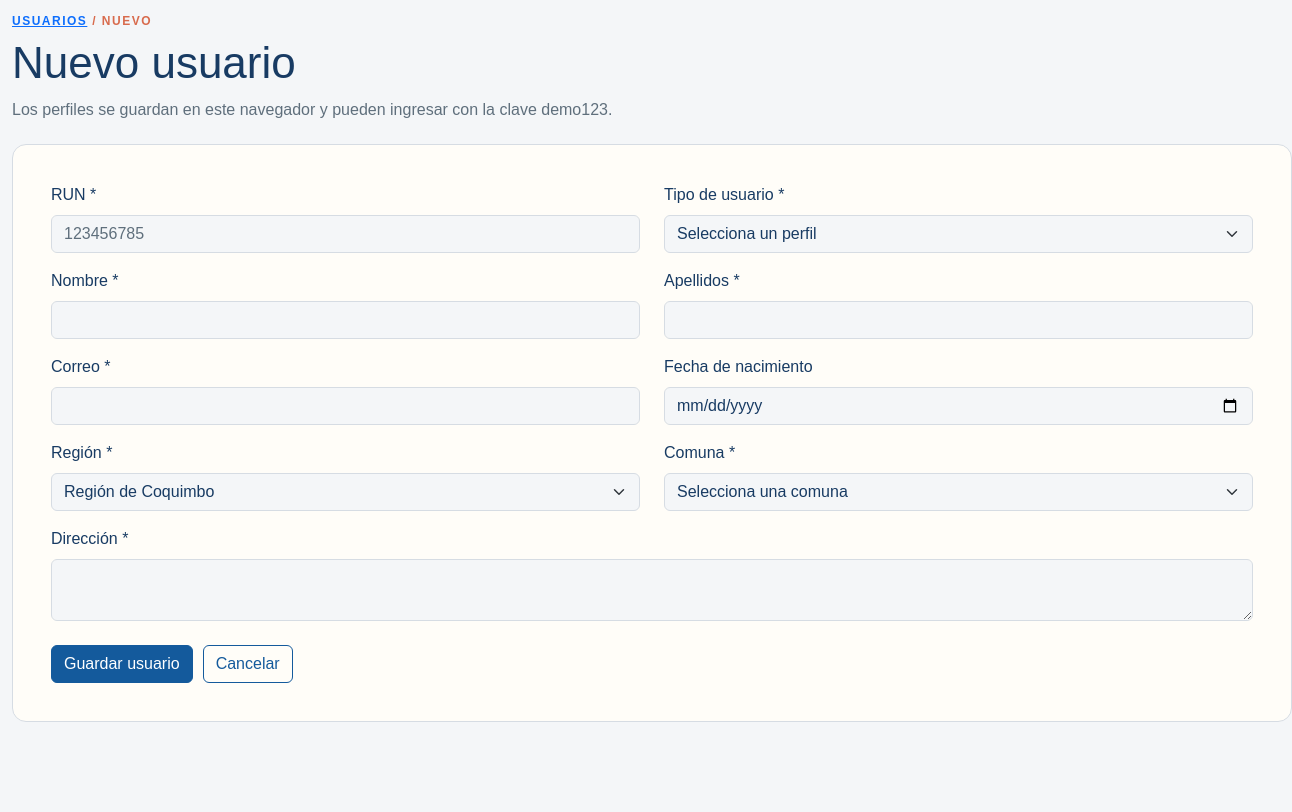
AdminUsuarioFormContainer › avisa si no se pudo guardar
The width and height of the screenshot is (1292, 812).
Type "222222222" into the field labelled "RUN *" at (346, 234), box [51,215,640,253]
Select "Vendedor" in the dropdown labelled "Tipo de usuario *" at (958, 234), box [664,215,1253,253]
Type "Vera" into the field labelled "Nombre *" at (346, 320), box [51,301,640,339]
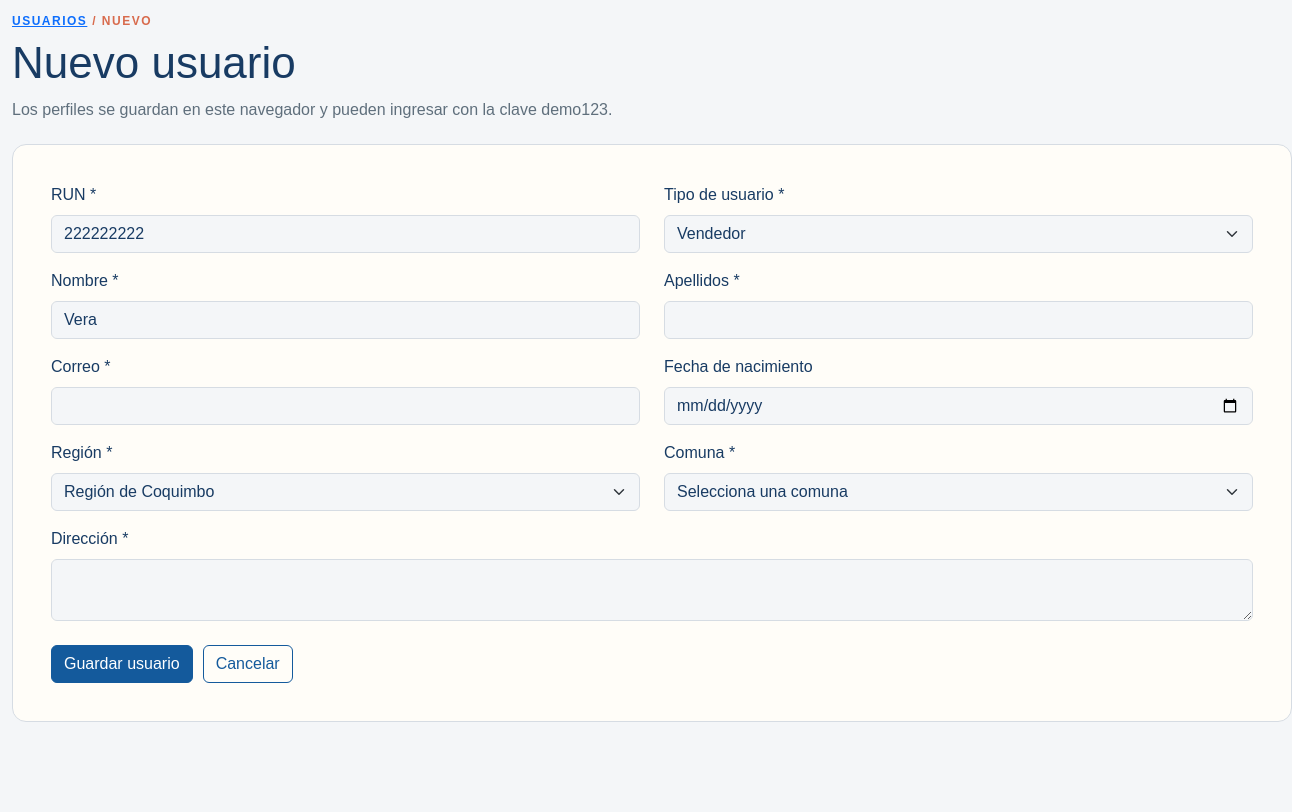
Type "Vende" into the field labelled "Apellidos *" at (958, 320), box [664,301,1253,339]
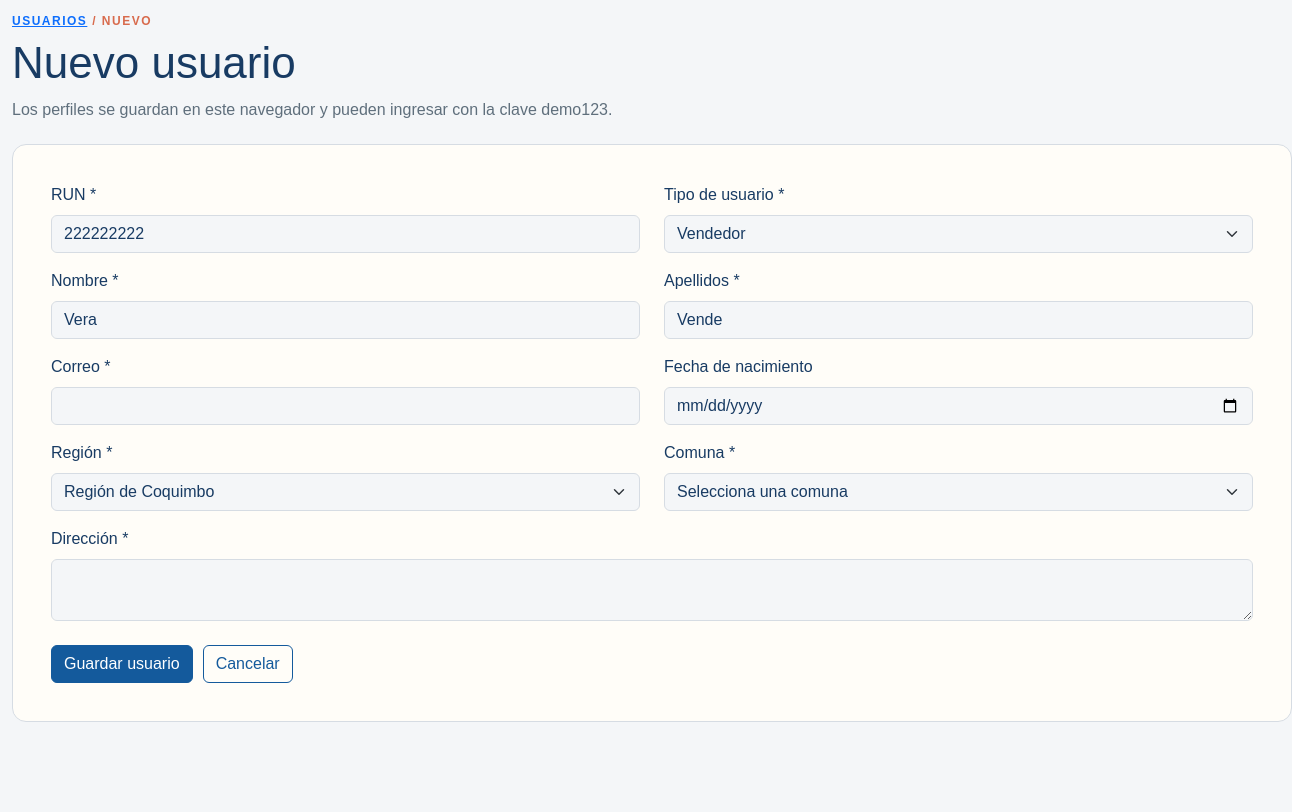
Type "VERA@duoc.cl " into the field labelled "Correo *" at (346, 406), box [51,387,640,425]
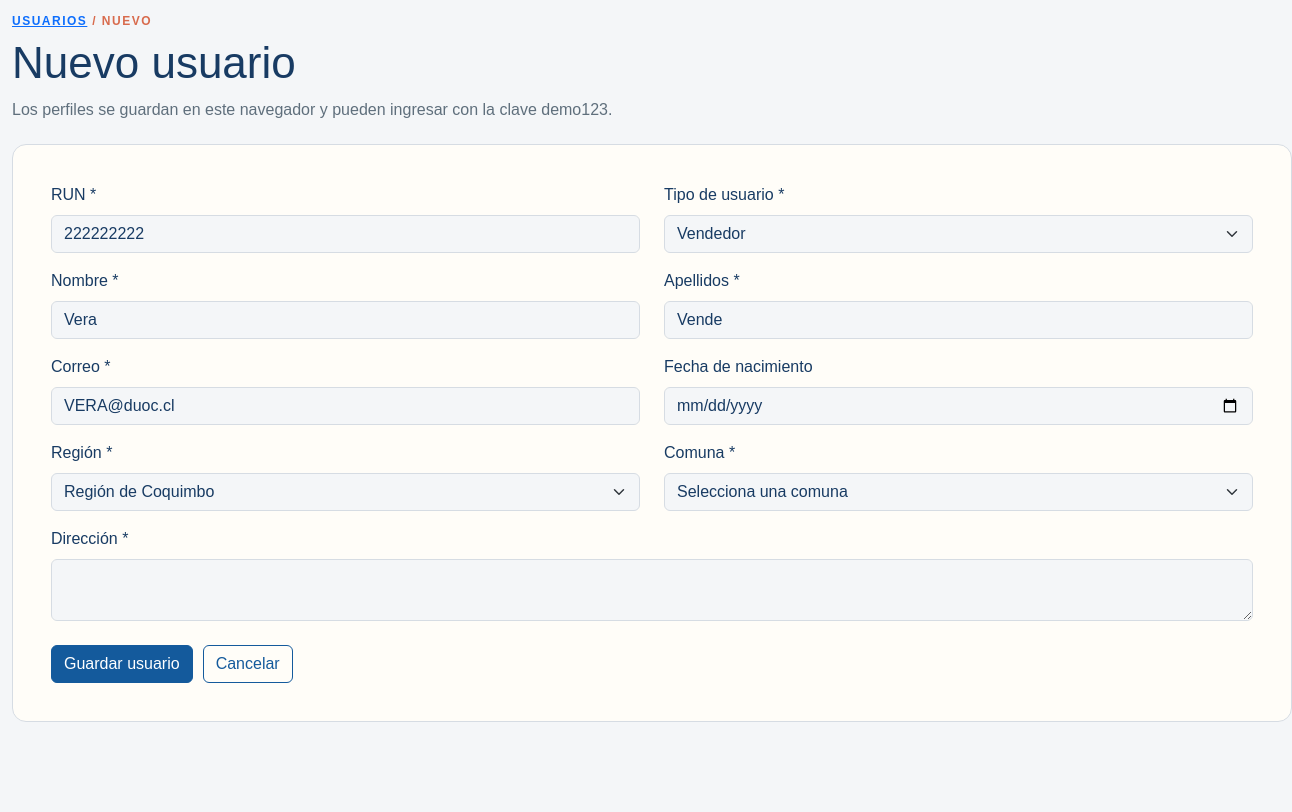
Select "Coquimbo" in the dropdown labelled "Comuna *" at (958, 492), box [664,473,1253,511]
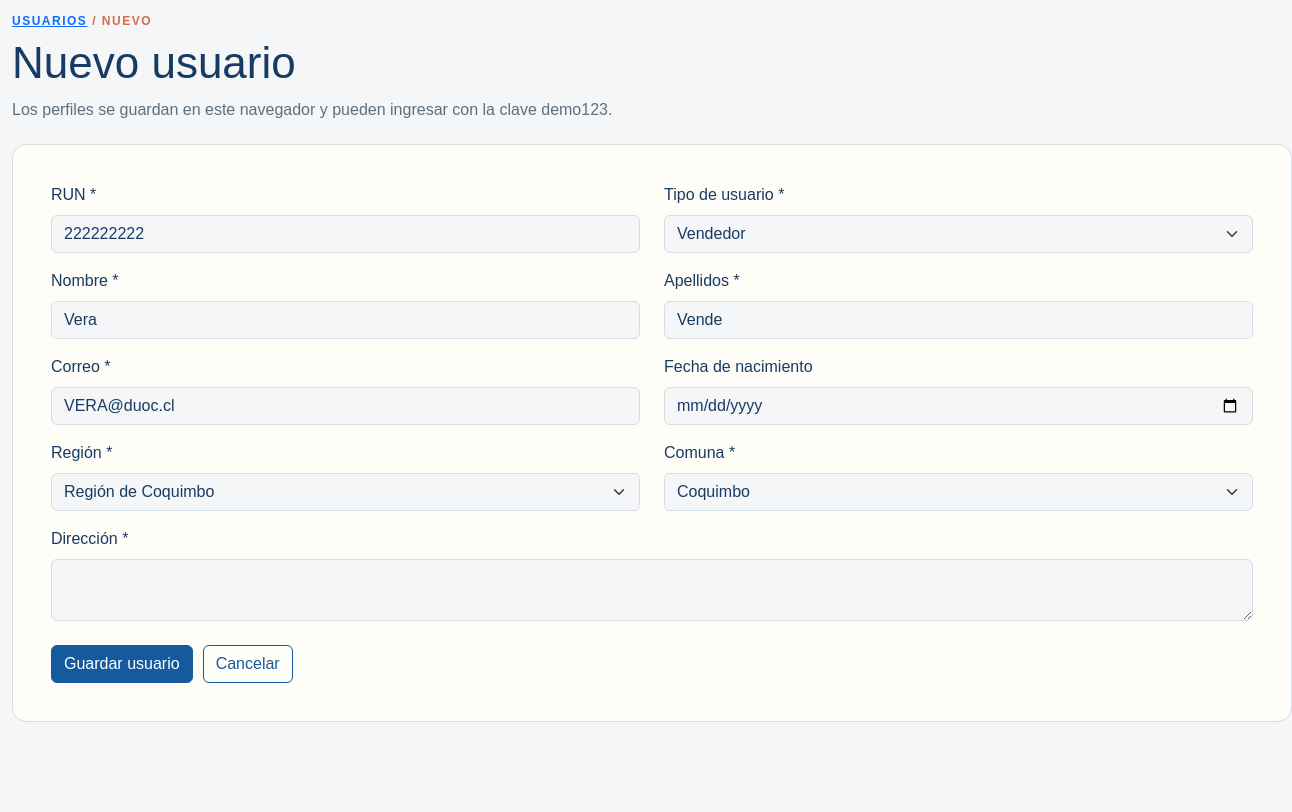
Type "Av. Principal 123" into the text box labelled "Dirección *" at (652, 590), box [51,559,1253,621]
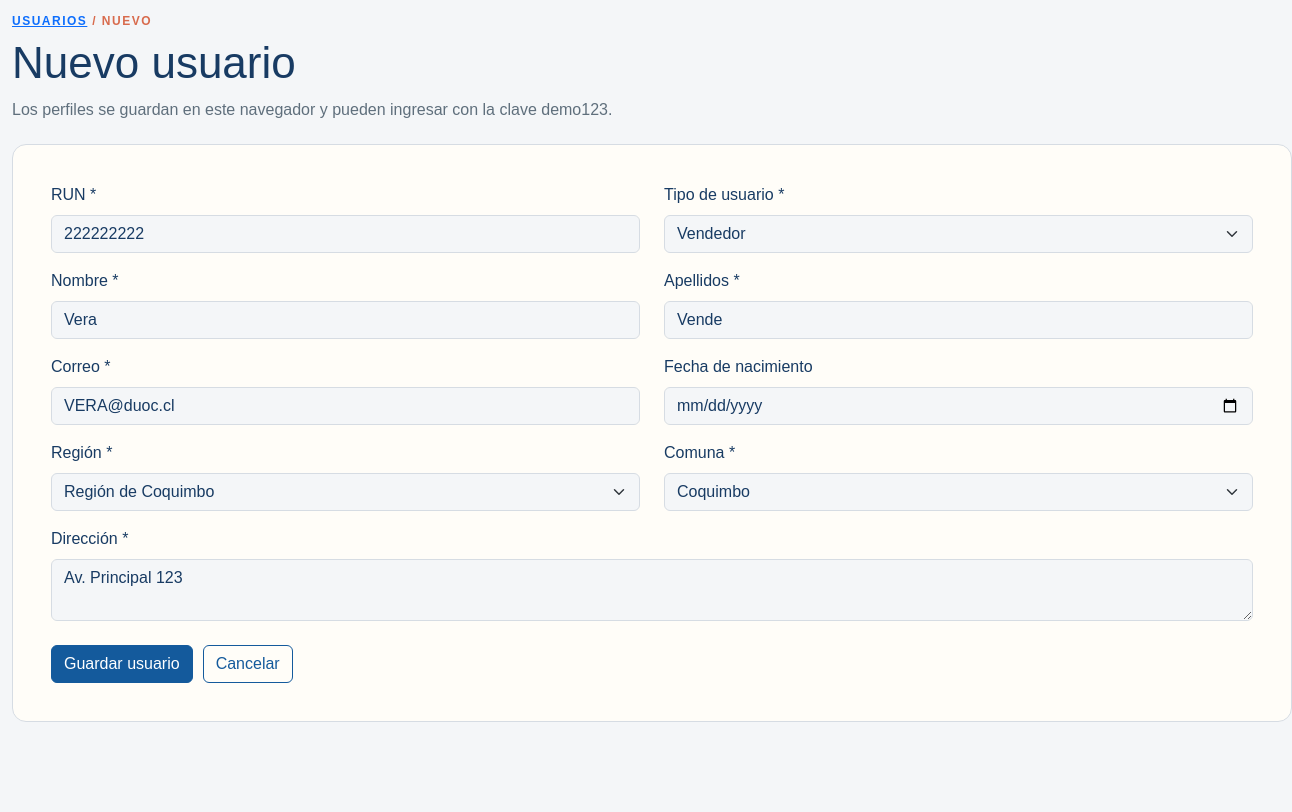
Click the button "Guardar usuario" at (122, 664), box [51,645,193,683]
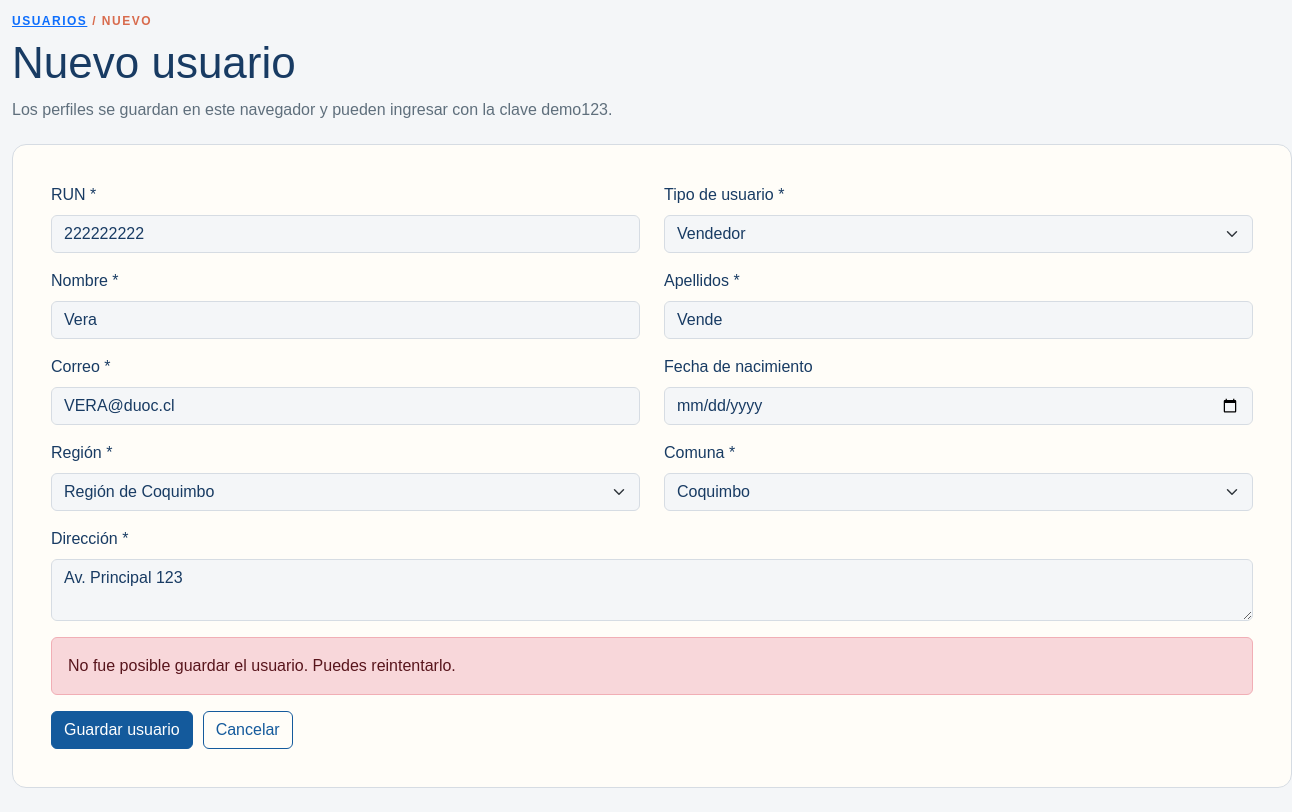
Expected: the message shows "No fue posible guardar el usuario", [68,657,456,674]
